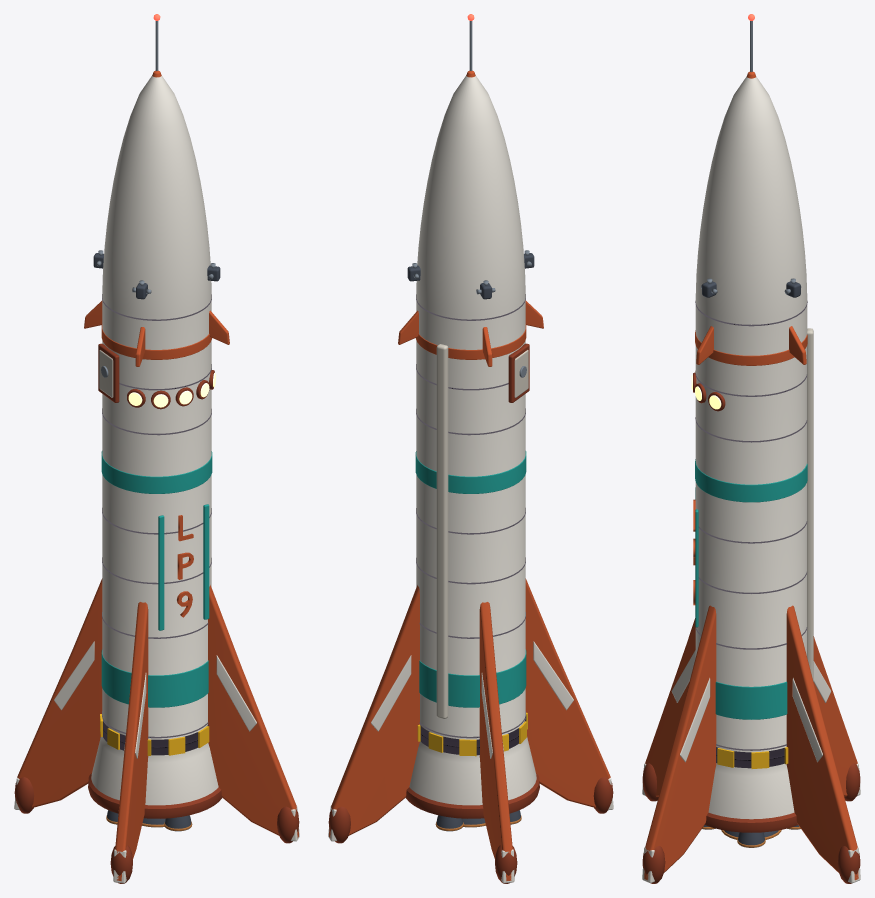
The model's file is dune_rocket.glb.
3 renders of one model, left to right at view 1: azimuth 30°, elevation 25°; view 2: azimuth 150°, elevation 25°; view 3: azimuth 270°, elevation 25°, orthographic.
Parts seen in each view (by area): view 1: Rocket; view 2: Rocket; view 3: Rocket.
Part boxes in pixels (x1,y1,x2,y2): Rocket: (14,14,299,883); Rocket: (328,14,613,883); Rocket: (642,14,860,883).
Bounding box in the file's own units: 7.83 × 32.77 × 7.83.
